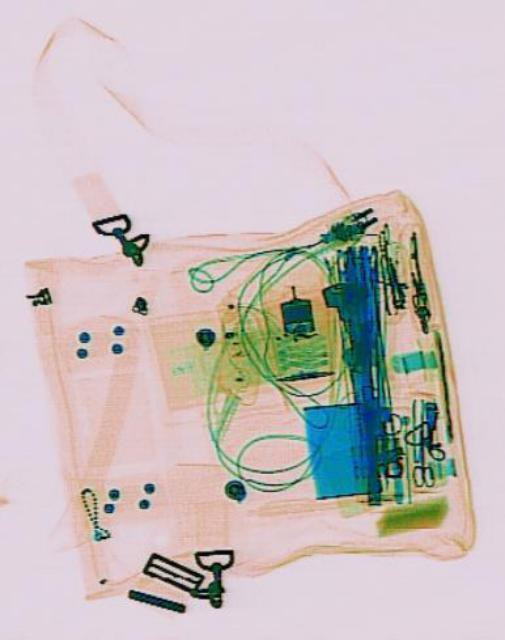Scissors: (407, 417, 432, 488)
